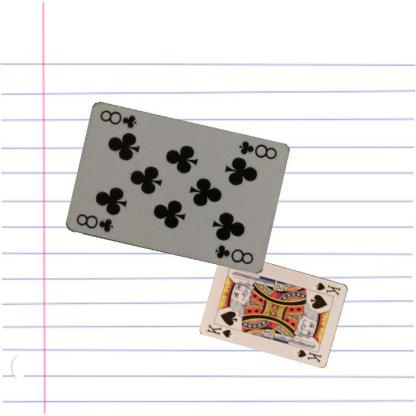8c: (236, 138, 278, 161), (73, 211, 114, 234)
Ks: (204, 321, 234, 339), (314, 280, 342, 297)
